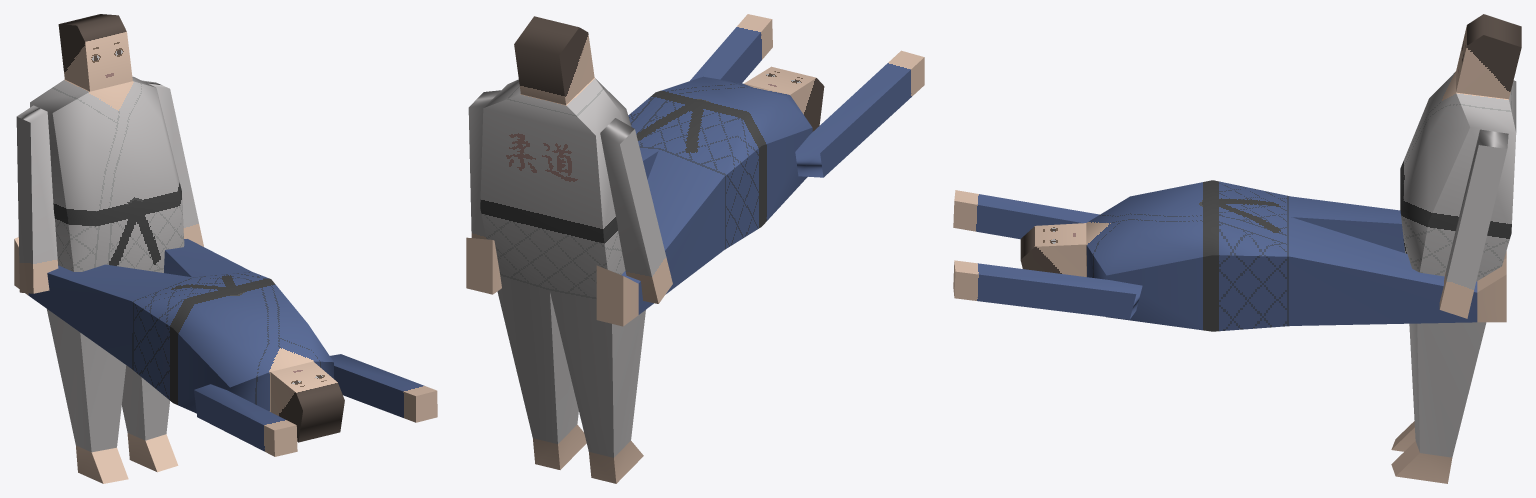
The model's file is 023f_Judo_Contest.glb.
3 views of the same model, side by side, from view 1: azimuth 30°, elevation 25°; view 2: azimuth 150°, elevation 25°; view 3: azimuth 270°, elevation 25° (orthographic). The views are drawn at different scales.
Parts seen in each view (by area): view 1: part_0; view 2: part_0; view 3: part_0.
Boxes of the visible parts, x1=… form: part_0: x1=14, y1=14, x2=437, y2=483; part_0: x1=466, y1=14, x2=924, y2=483; part_0: x1=953, y1=14, x2=1521, y2=483.
Bounding box in the file's own units: 0.8339 × 1.99 × 2.33.
1 material, 1 textured.
